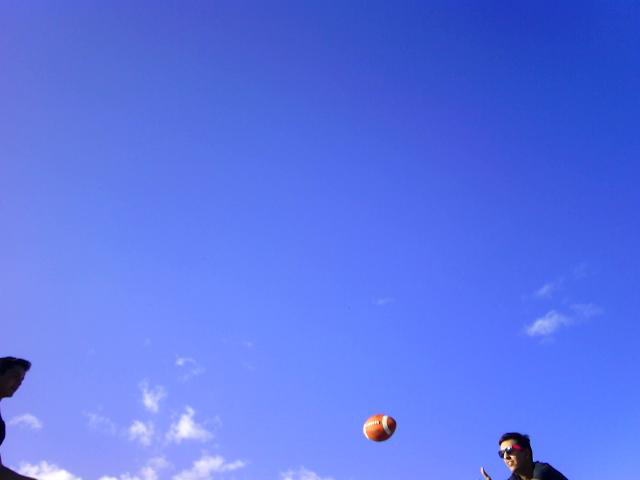football: (358, 411, 398, 442)
